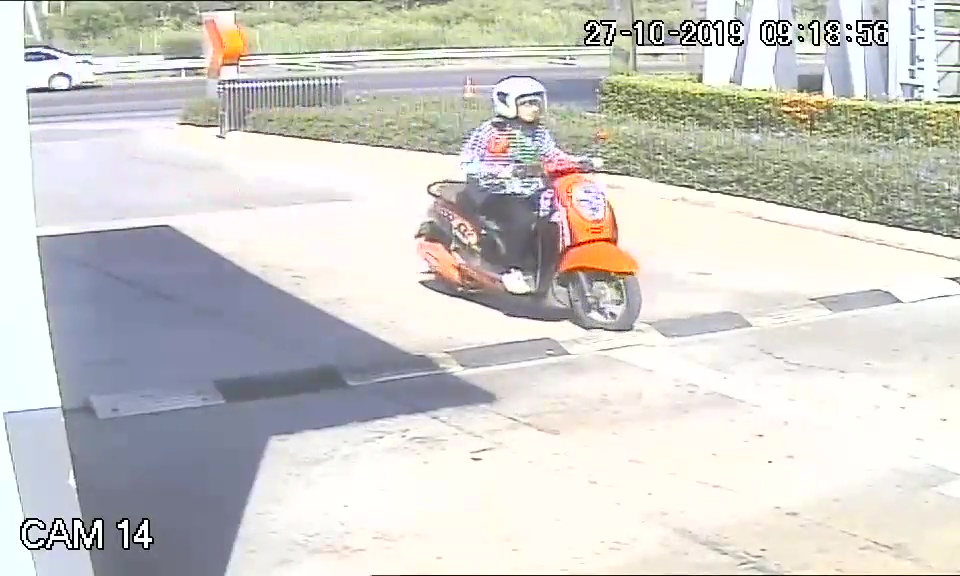motorcycle: (417, 155, 645, 336)
